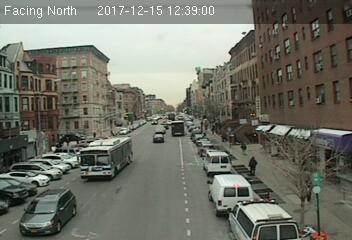bus: (79, 134, 135, 179)
car: (19, 187, 79, 236), (151, 133, 164, 142)
pedestrian: (248, 155, 258, 177), (240, 139, 249, 156)
police: (227, 198, 303, 240)
truck: (206, 173, 254, 216), (200, 150, 232, 176)
ups: (170, 120, 185, 136)
